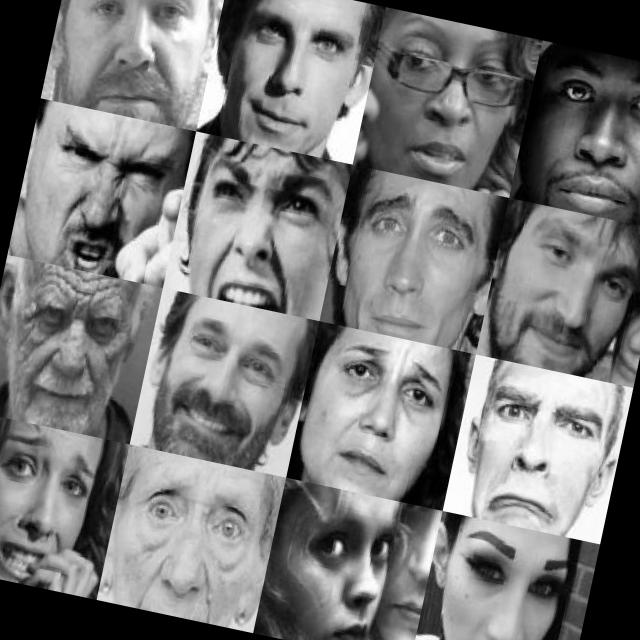angry: (459, 378, 603, 526), (188, 153, 332, 300), (39, 126, 164, 264)
fear: (280, 496, 402, 640), (0, 426, 94, 578)
happy: (222, 5, 352, 146), (501, 223, 631, 362), (153, 330, 280, 461), (449, 521, 572, 640)
neutral: (114, 463, 258, 614), (382, 28, 521, 183), (531, 53, 640, 217), (2, 276, 126, 419), (69, 0, 208, 115)
sad: (348, 182, 482, 338), (308, 339, 446, 483)
